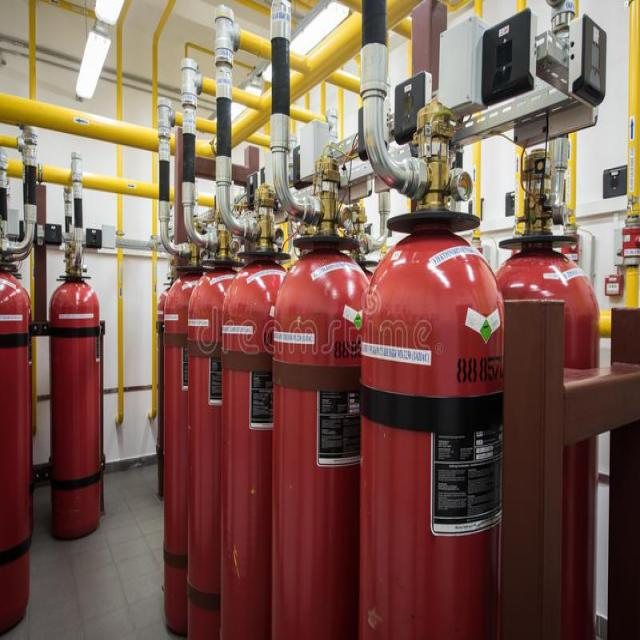fire_extinguisher: (358, 200, 508, 639), (481, 200, 600, 639), (266, 228, 376, 639), (214, 244, 300, 639), (180, 238, 254, 639), (156, 256, 218, 632), (44, 244, 106, 546), (0, 238, 35, 639)
